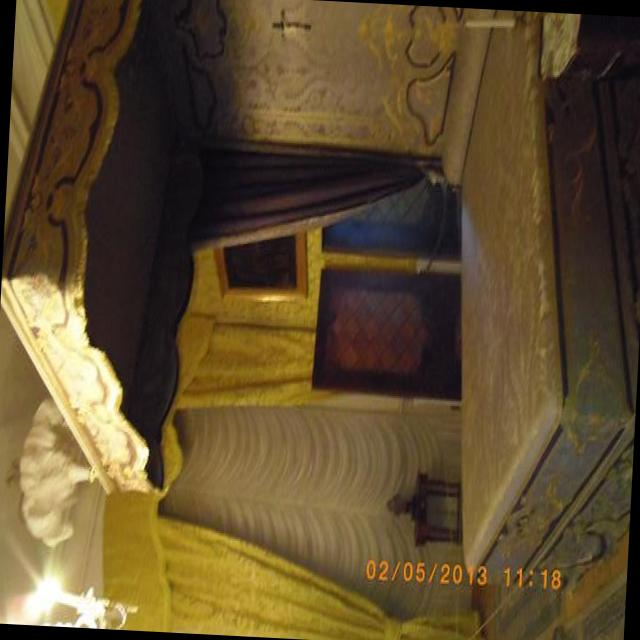bed: (213, 0, 640, 589)
